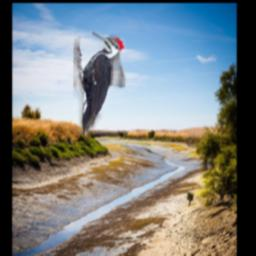Woodpecker: (73, 31, 124, 136)
